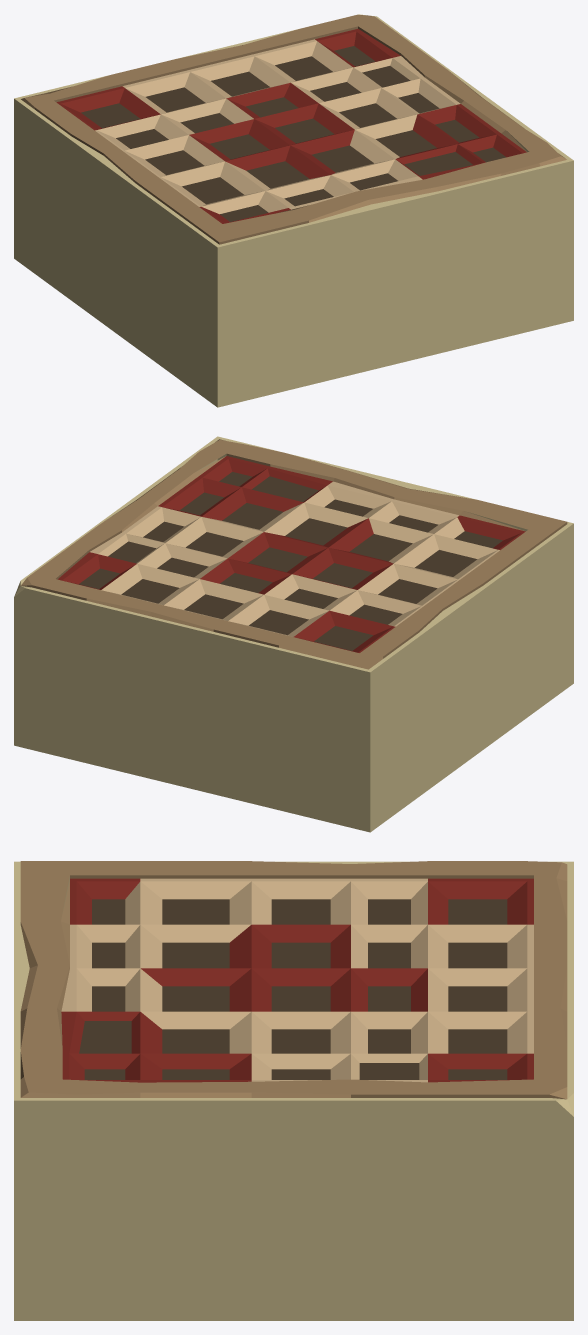
The model's file is Piso_Pinchos.FBX.
3 views of the same model, one above another, from view 1: azimuth 30°, elevation 25°; view 2: azimuth 150°, elevation 25°; view 3: azimuth 270°, elevation 25° (orthographic). The views are drawn at different scales.
Visible parts, largest first — view 1: Piso-Pinchos; view 2: Piso-Pinchos; view 3: Piso-Pinchos.
Boxes of the visible parts, x1=… form: Piso-Pinchos: x1=14, y1=14, x2=573, y2=407; Piso-Pinchos: x1=14, y1=436, x2=573, y2=832; Piso-Pinchos: x1=14, y1=861, x2=573, y2=1320.
Bounding box in the file's own units: 202 × 88.04 × 200.
Materials: 1 (1 with a texture image).
